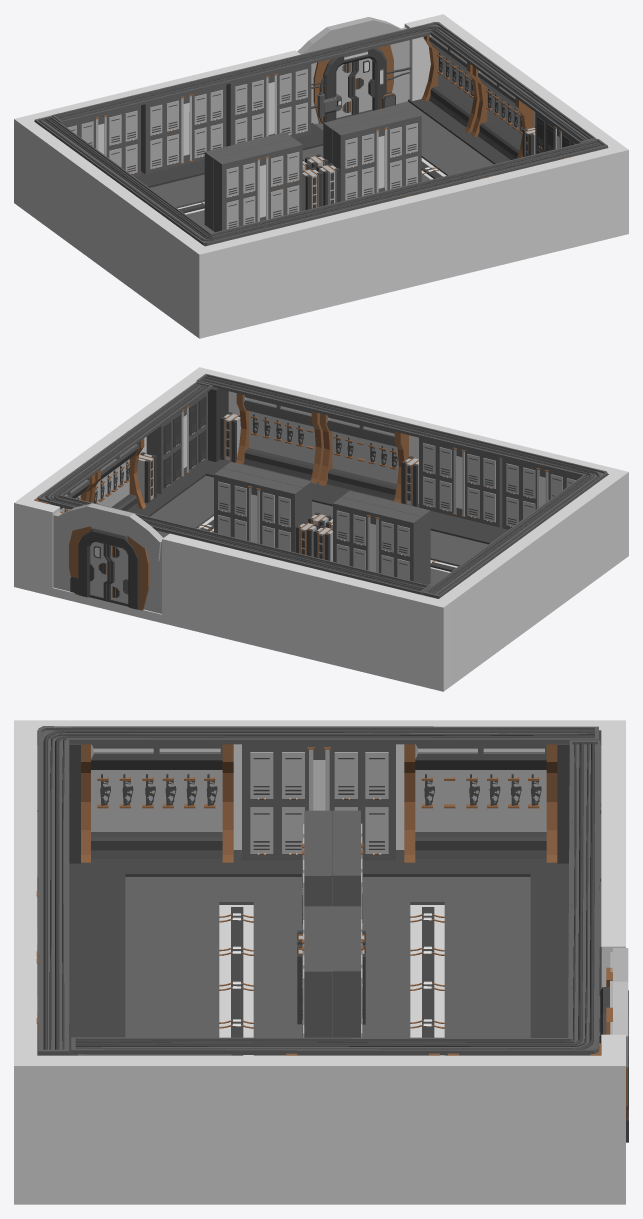
Rendered from Armurerie.fbx.
3 views of the same model, one above another, from view 1: azimuth 30°, elevation 25°; view 2: azimuth 150°, elevation 25°; view 3: azimuth 270°, elevation 25° (orthographic). The views are drawn at different scales.
Visible parts, largest first — view 1: Cube.035, Cube.037, Cube.044, Cube.043, Cube.045, Cube.049, Cube.047, Cube.032, ArmeLambdaAlpha.003, ArmeLambdaAlpha.001, Cube.048, Cube.046 (+5 smaller); view 2: Cube.035, Cube.036, Cube.044, Cube.032, Cube.045, Cube.043, Cube.048, ArmeLambdaAlpha.004, ArmeLambdaAlpha.005, Cube.046, Cube.039, ArmeLambdaAlpha.003 (+10 smaller); view 3: Cube.035, Cube.045, Cube.044, Cube.043, ArmeLambdaAlpha, ArmeLambdaAlpha.002, Cube.038, Cube.046, Cube.047, Cube.048, Cube.049, Cube.032 (+3 smaller).
Part boxes in pixels (bbox=[...]): Cube.035: bbox=[14, 14, 628, 338]; Cube.037: bbox=[34, 64, 311, 176]; Cube.044: bbox=[34, 115, 607, 245]; Cube.043: bbox=[51, 22, 596, 143]; Cube.045: bbox=[135, 99, 510, 232]; Cube.049: bbox=[213, 138, 302, 232]; Cube.047: bbox=[332, 109, 421, 201]; Cube.032: bbox=[297, 17, 410, 123]; ArmeLambdaAlpha.003: bbox=[470, 66, 533, 159]; ArmeLambdaAlpha.001: bbox=[421, 35, 479, 132]; Cube.048: bbox=[204, 132, 293, 230]; Cube.046: bbox=[323, 103, 412, 163]; Cube.035: bbox=[14, 367, 628, 691]; Cube.036: bbox=[419, 437, 608, 529]; Cube.044: bbox=[196, 374, 607, 598]; Cube.032: bbox=[53, 503, 162, 613]; Cube.045: bbox=[133, 459, 508, 586]; Cube.043: bbox=[37, 381, 430, 594]; Cube.048: bbox=[333, 497, 422, 583]; ArmeLambdaAlpha.004: bbox=[236, 393, 323, 483]; ArmeLambdaAlpha.005: bbox=[318, 413, 408, 502]; Cube.046: bbox=[214, 468, 303, 552]; Cube.039: bbox=[146, 387, 228, 493]; ArmeLambdaAlpha.003: bbox=[89, 431, 146, 512]; Cube.035: bbox=[14, 720, 625, 1204]; Cube.045: bbox=[69, 850, 568, 1055]; Cube.044: bbox=[38, 726, 598, 1054]; Cube.043: bbox=[71, 740, 600, 1055]; ArmeLambdaAlpha: bbox=[404, 744, 557, 862]; ArmeLambdaAlpha.002: bbox=[81, 744, 233, 862]; Cube.038: bbox=[242, 744, 395, 860]; Cube.046: bbox=[332, 906, 363, 1037]; Cube.047: bbox=[302, 906, 332, 1037]; Cube.048: bbox=[332, 810, 363, 930]; Cube.049: bbox=[302, 810, 332, 930]; Cube.032: bbox=[599, 948, 628, 1142].
Bounding box in the file's own units: 8828 × 1945 × 6634.
